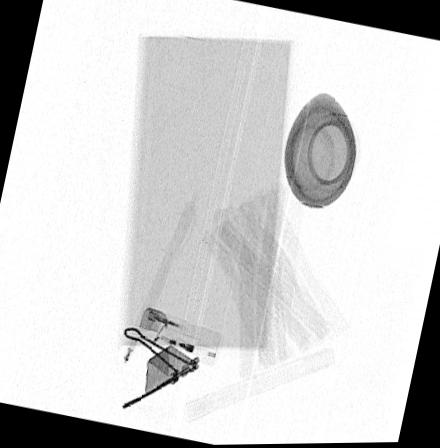Lighter: (136, 307, 219, 365)
